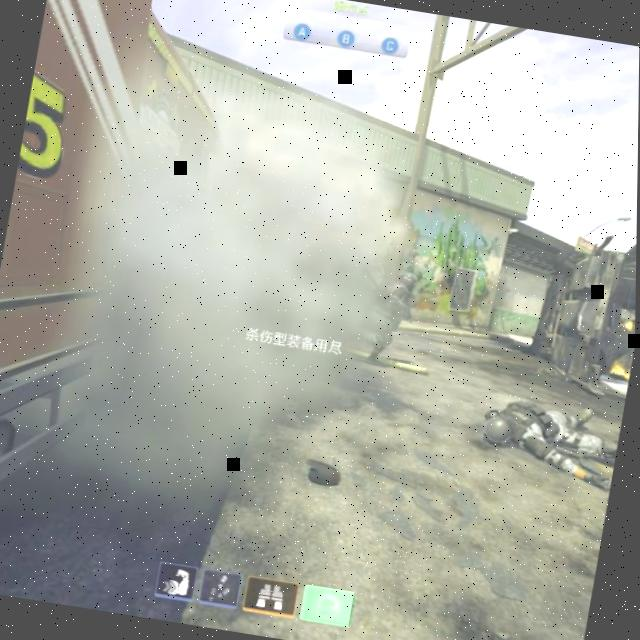MW2_body: (361, 268, 421, 370)
